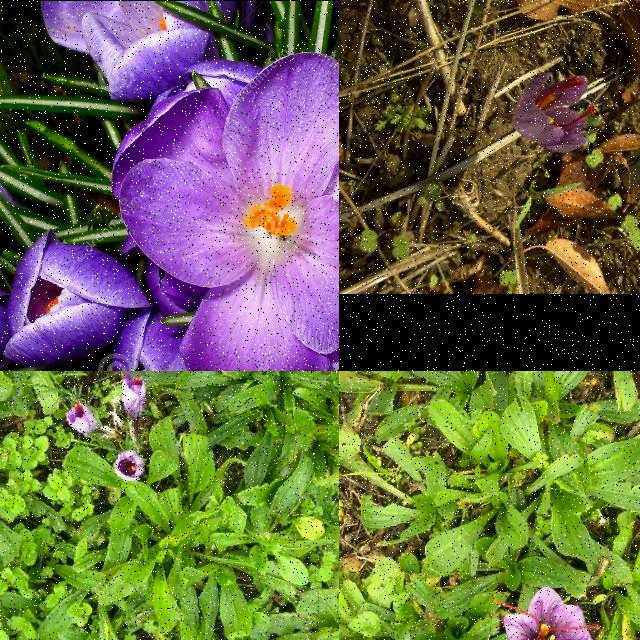flower: (505, 72, 599, 154), (494, 586, 600, 640), (120, 373, 148, 419), (65, 400, 101, 434), (114, 450, 146, 482)
